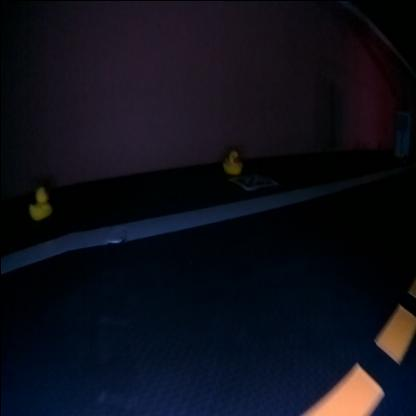Duckie: (28, 184, 50, 218), (222, 149, 240, 173)
QR code: (232, 171, 276, 189)
